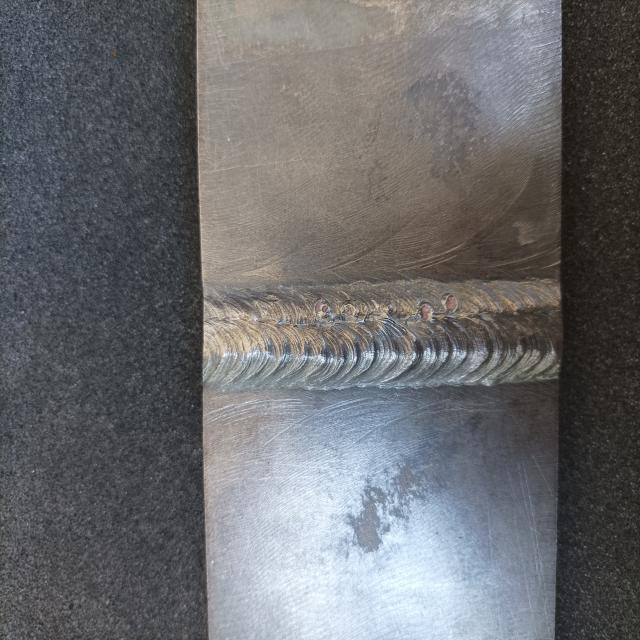Porosity: (340, 299, 357, 325), (316, 296, 332, 321), (444, 293, 460, 316), (418, 301, 434, 323), (387, 302, 394, 315)
